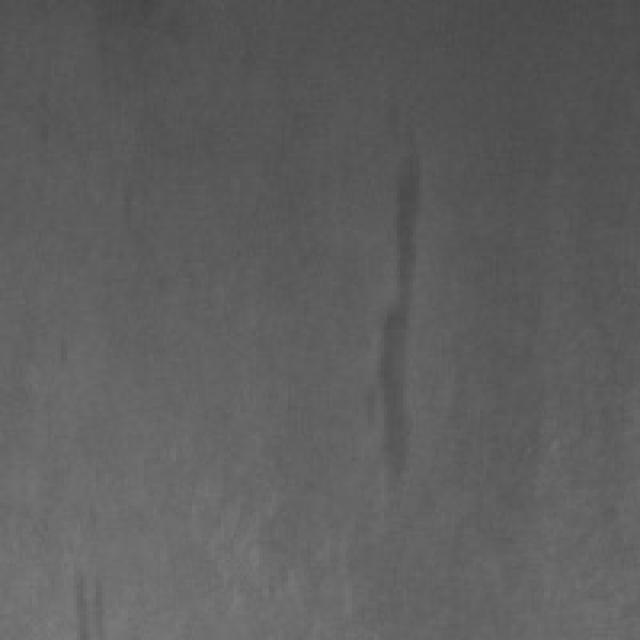inclusion: (352, 118, 432, 490), (54, 554, 119, 630)
